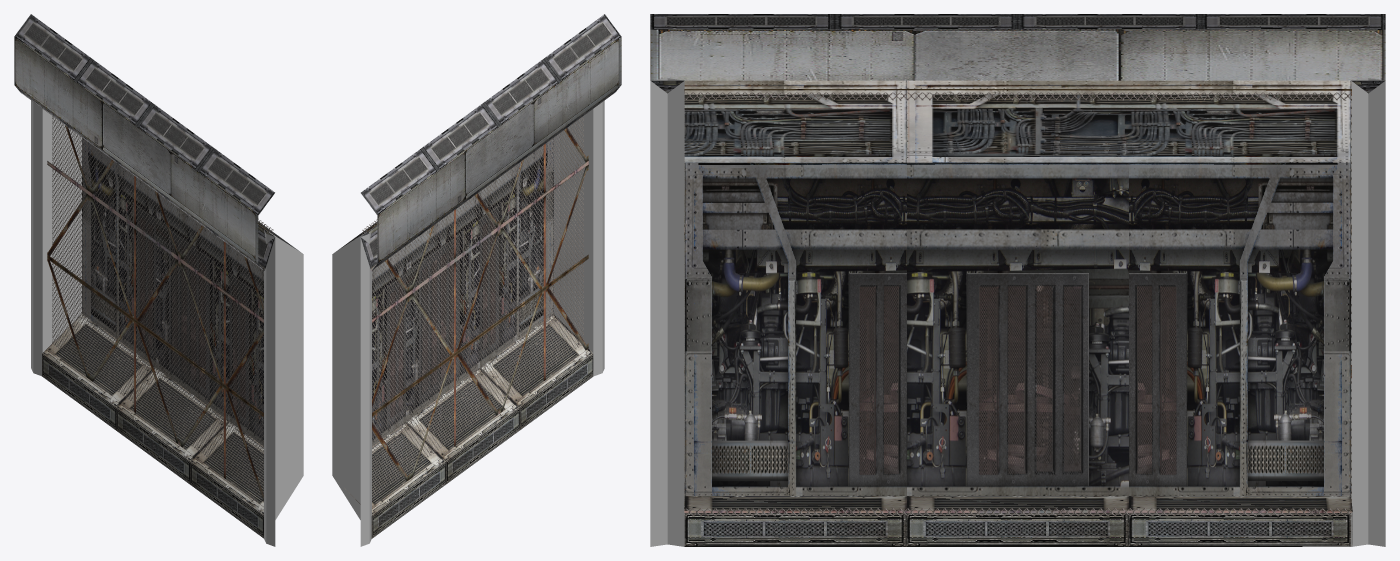
The model's file is Wall_E_Mid4mts_06.fbx.
The picture shows the model from 3 angles, left to right: view 1: azimuth 30°, elevation 25°; view 2: azimuth 150°, elevation 25°; view 3: azimuth 270°, elevation 25°; orthographic projection. The views are drawn at different scales.
Parts seen in each view (by area): view 1: Wall_Framework, Metal Grid, Wall_E_Mid4mts_11; view 2: Wall_Framework, Metal Grid, Wall_E_Mid4mts_11; view 3: Wall_Framework, Metal Grid, Wall_E_Mid4mts_11.
Part boxes in pixels (bbox=[...]): Wall_Framework: bbox=[14, 14, 303, 546]; Metal Grid: bbox=[52, 116, 273, 496]; Wall_E_Mid4mts_11: bbox=[47, 125, 268, 506]; Wall_Framework: bbox=[332, 14, 621, 546]; Metal Grid: bbox=[362, 116, 583, 498]; Wall_E_Mid4mts_11: bbox=[367, 128, 588, 506]; Wall_Framework: bbox=[650, 14, 1385, 546]; Metal Grid: bbox=[684, 92, 1351, 516]; Wall_E_Mid4mts_11: bbox=[684, 89, 1351, 512].
Size of the model in its own units: 66.99 by 400 by 500.
